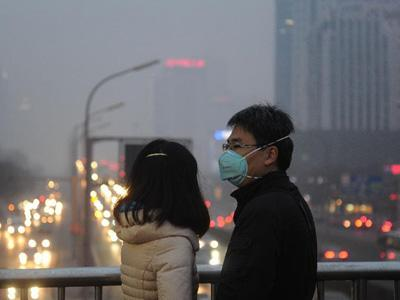bus: (376, 231, 400, 269)
car: (319, 240, 354, 264), (354, 215, 374, 230)
person: (213, 104, 318, 300), (113, 138, 211, 300)
